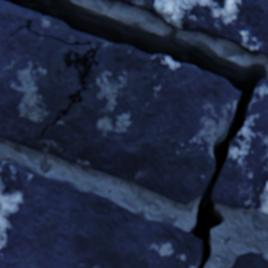brick: (0, 162, 198, 267), (106, 0, 267, 56), (230, 252, 267, 267)
broken_brick: (0, 0, 240, 205), (211, 80, 267, 213), (70, 54, 75, 62), (78, 66, 84, 72)
crack: (2, 0, 266, 267)
